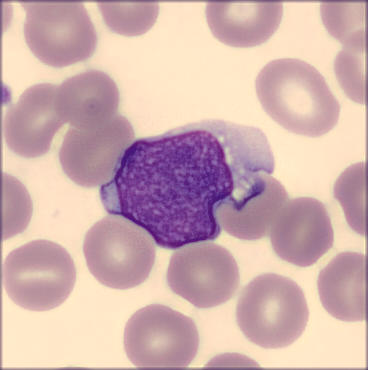WBC: (96, 113, 279, 256)
